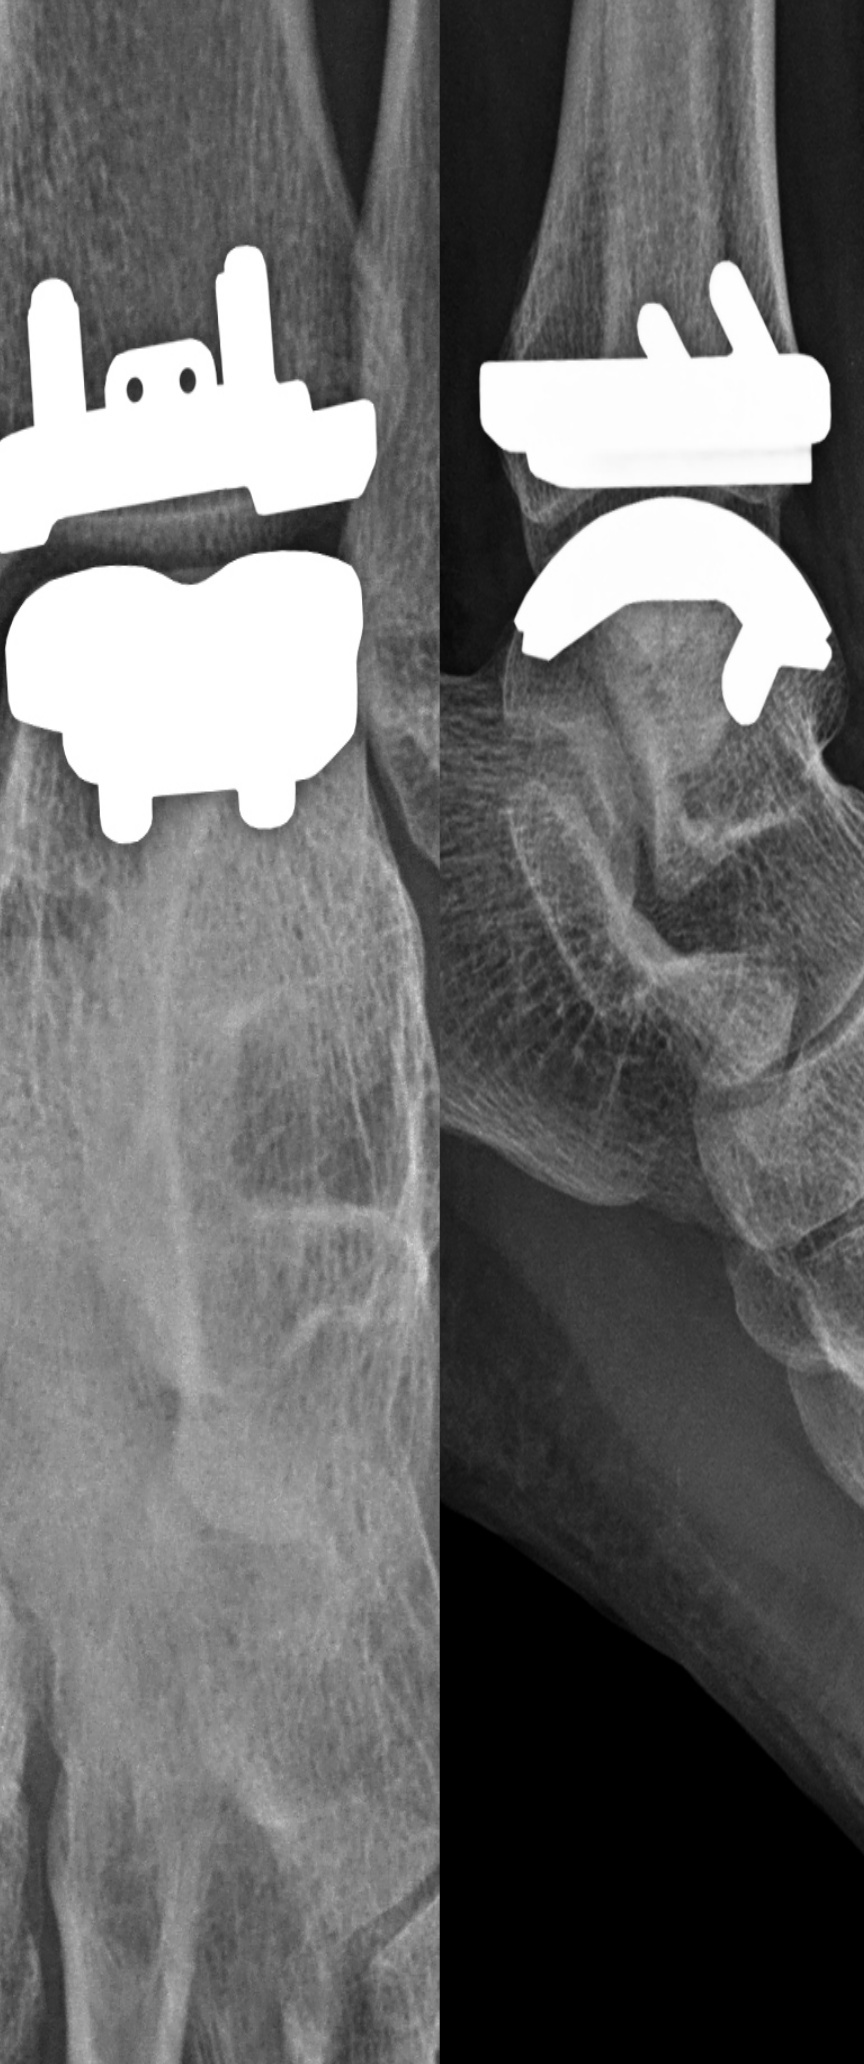Cadence-Integra: (3, 229, 386, 895), (457, 250, 857, 745)
